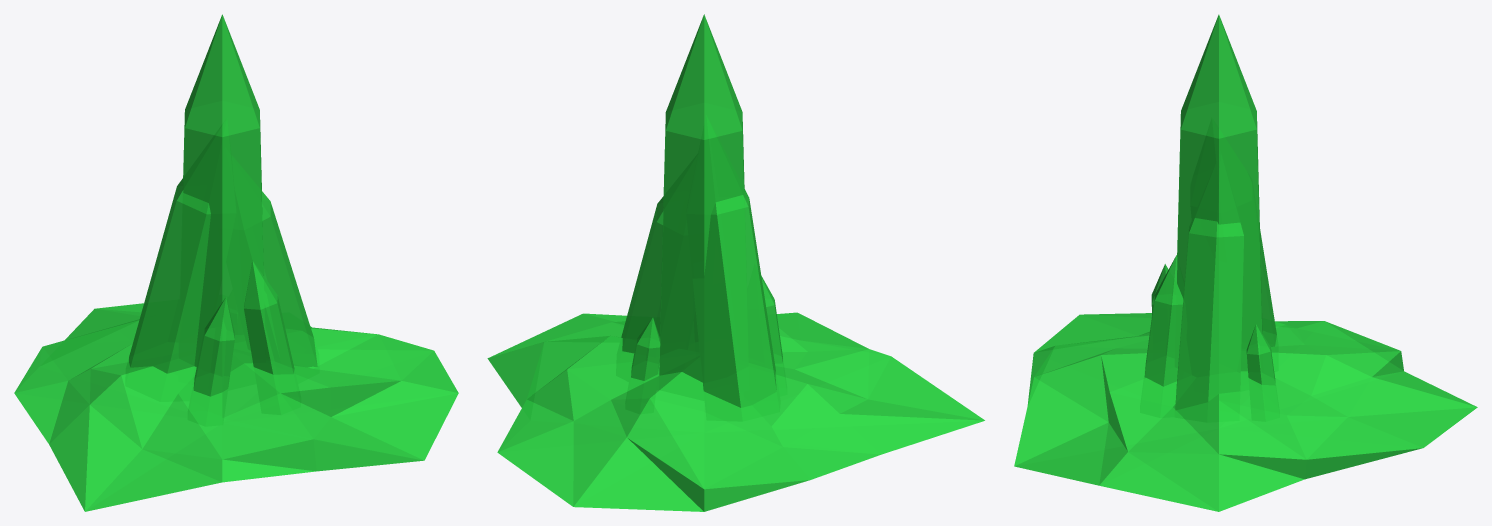
Rendered from GreenGemCluster.obj.
The picture shows the model from 3 angles, left to right: view 1: azimuth 30°, elevation 25°; view 2: azimuth 150°, elevation 25°; view 3: azimuth 270°, elevation 25°; orthographic projection. The views are drawn at different scales.
Size of the model in its own units: 2.08 by 1.95 by 1.98.
